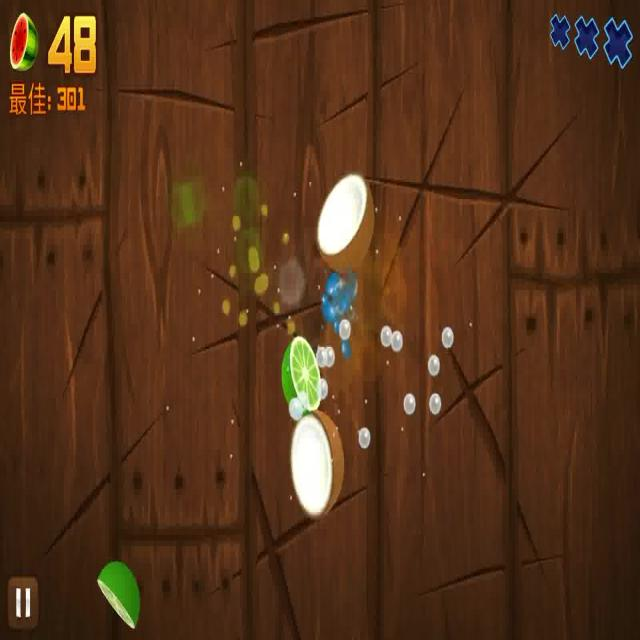fruit: (317, 174, 376, 271), (291, 414, 345, 518), (281, 338, 323, 414), (96, 558, 140, 628)
